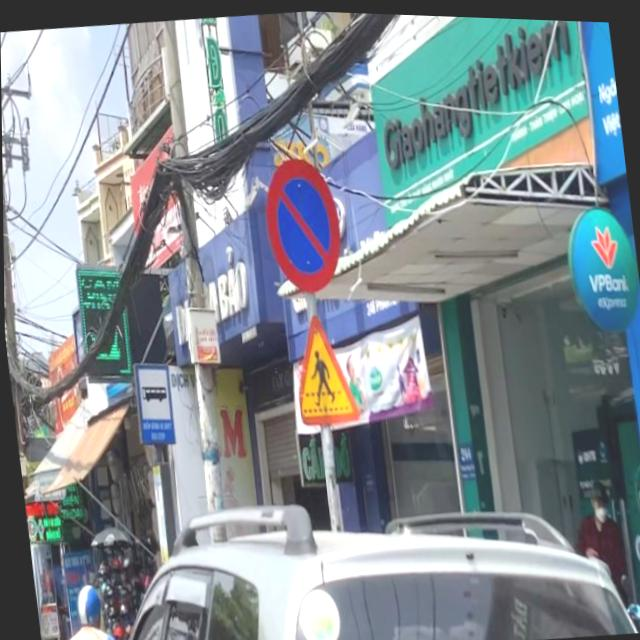Ben xe buyt: (130, 357, 176, 446)
Cam do xe: (257, 150, 347, 294)
Nguoi di bo cat ngang: (285, 306, 359, 425)
